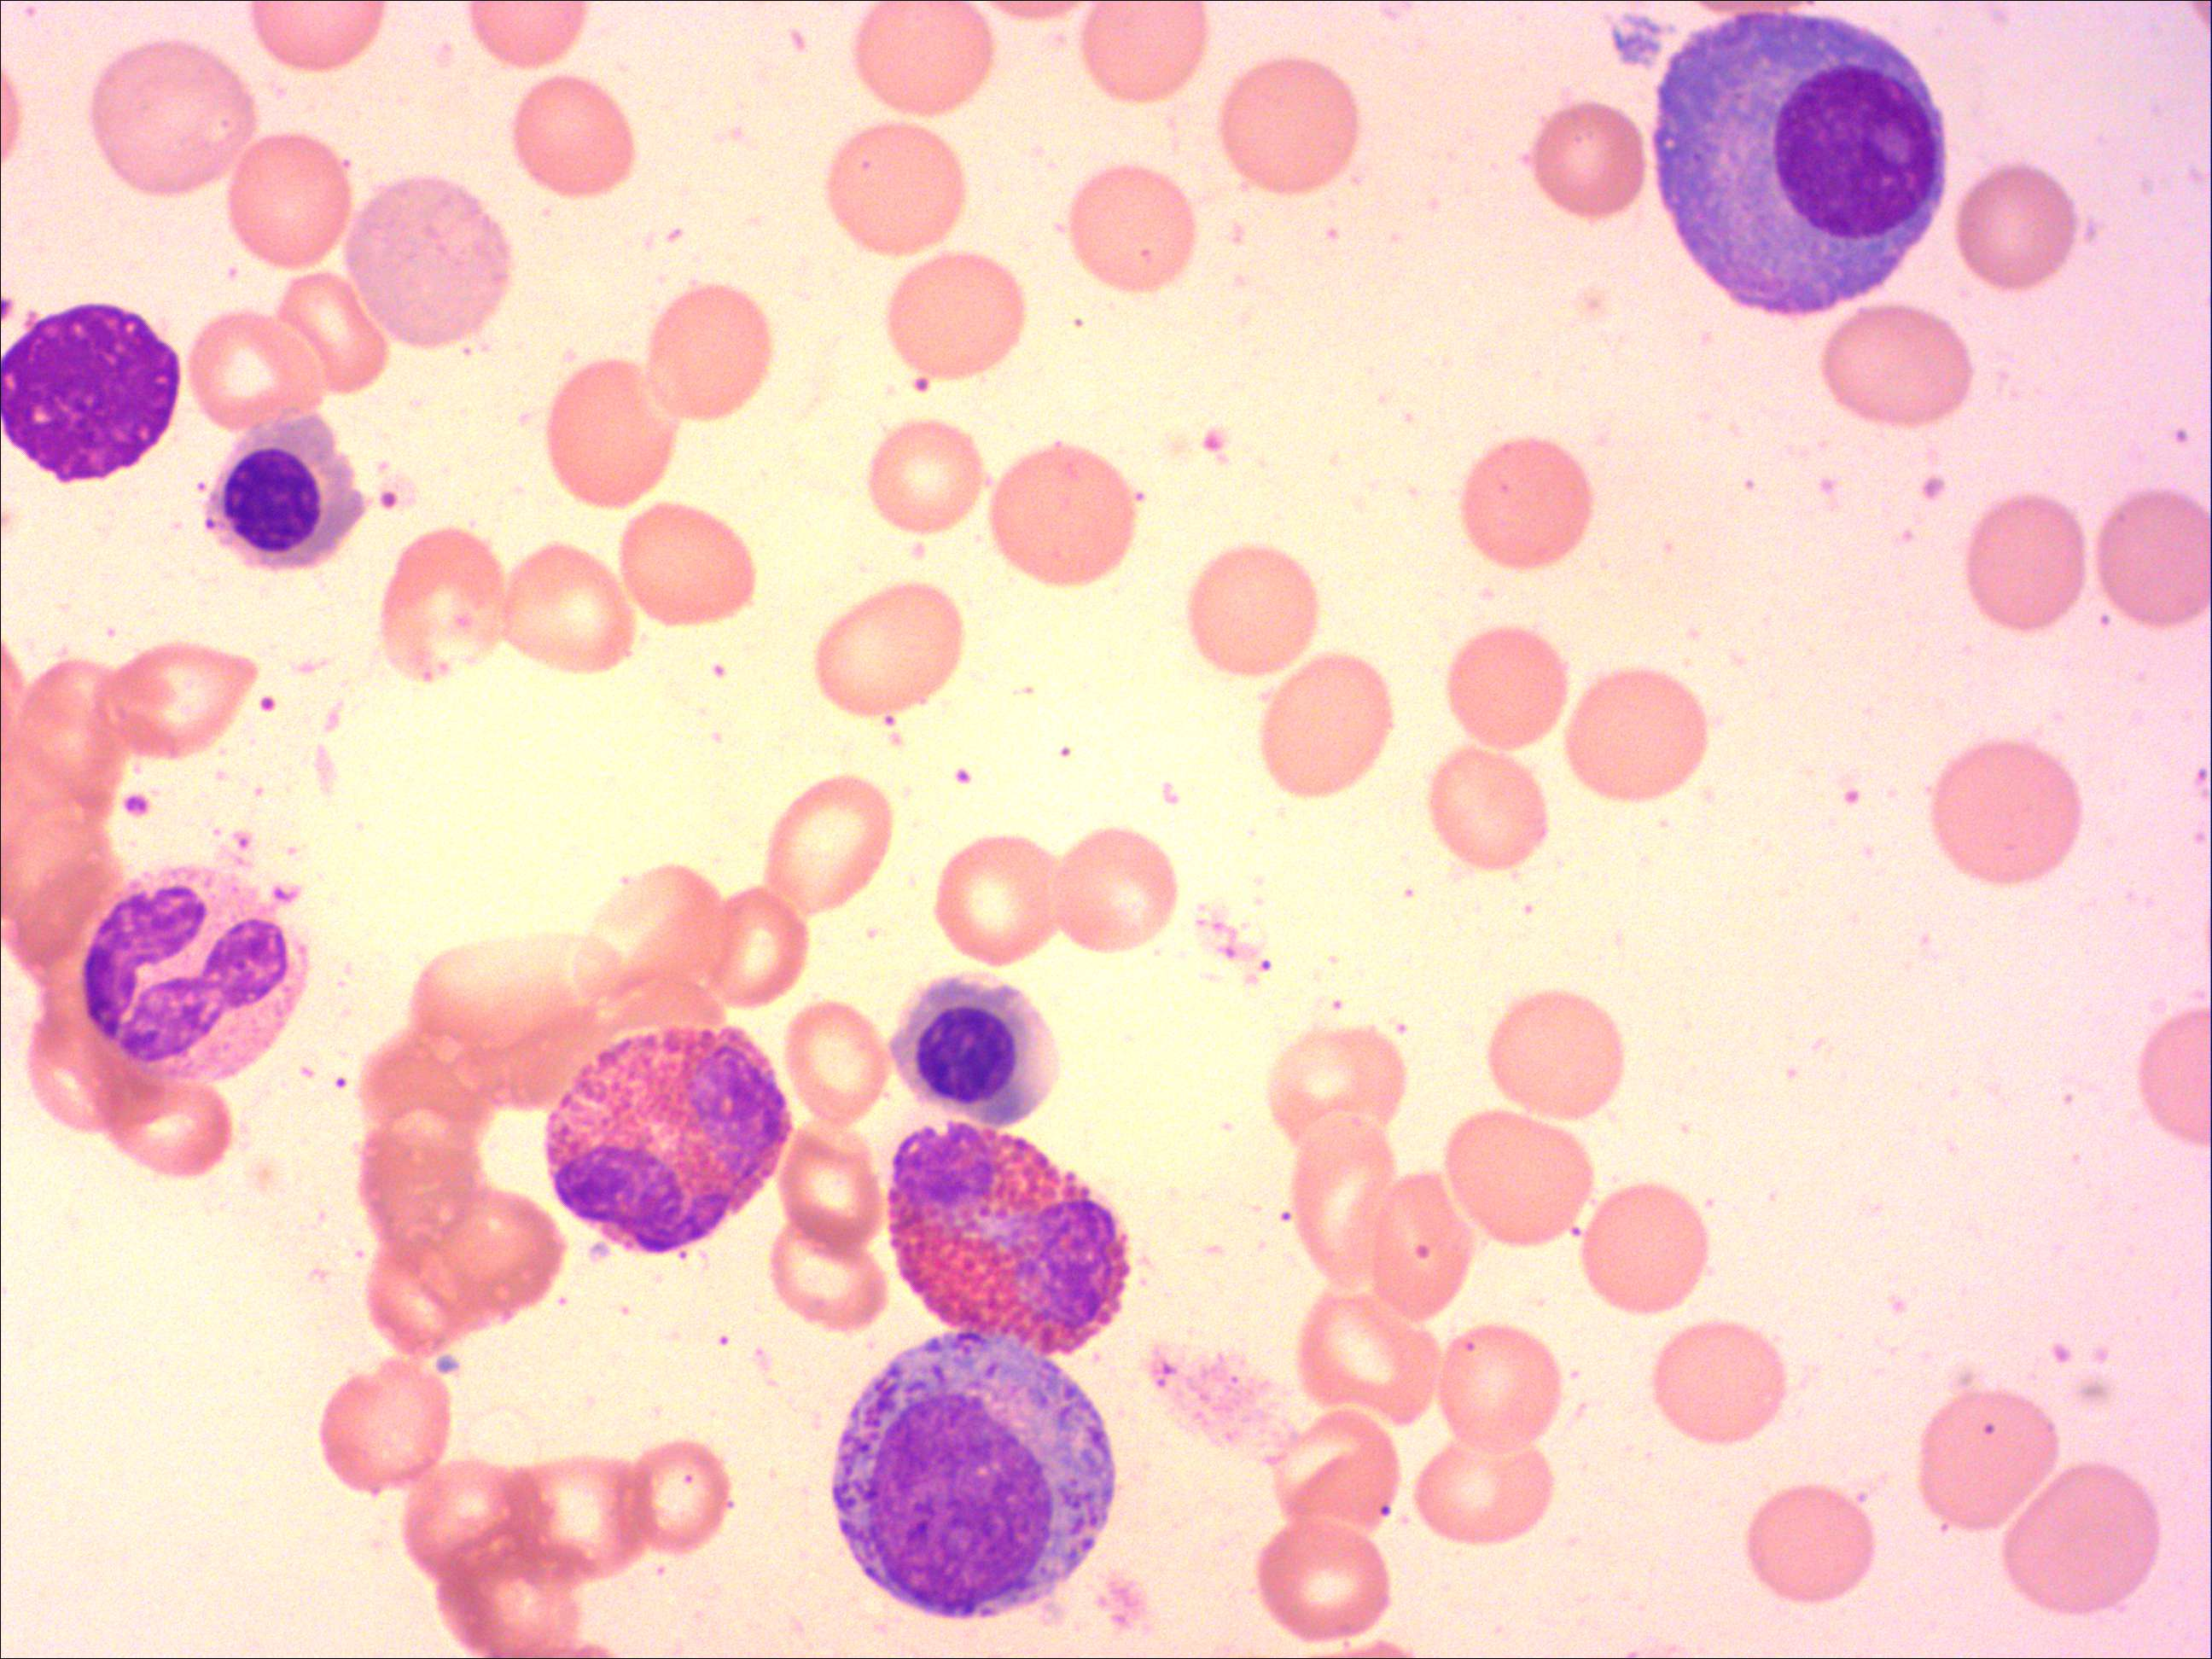2: (827, 1326, 1122, 1624)
23: (881, 965, 1064, 1136)
24: (199, 406, 374, 580)
5: (77, 861, 314, 1089)
51: (1648, 9, 1947, 321)
E4: (540, 1021, 799, 1262), (881, 1119, 1137, 1361)
x: (0, 300, 186, 488)
